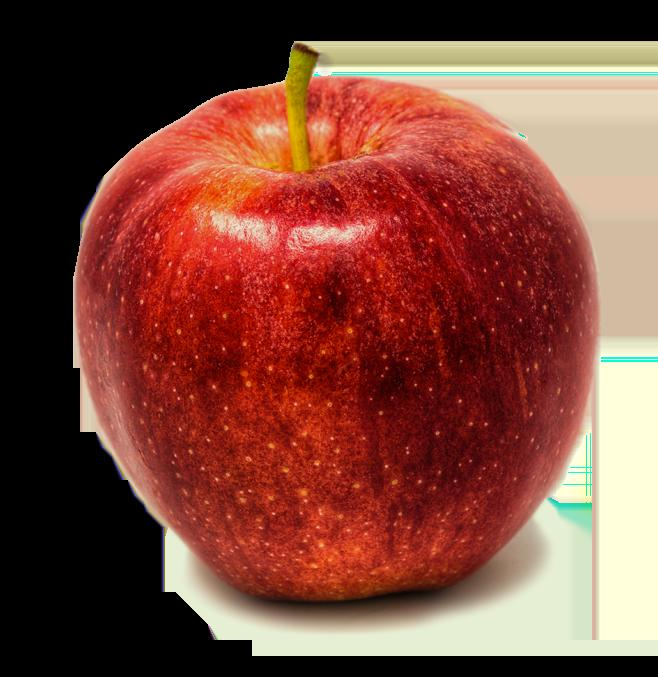apples: (71, 33, 598, 603)
